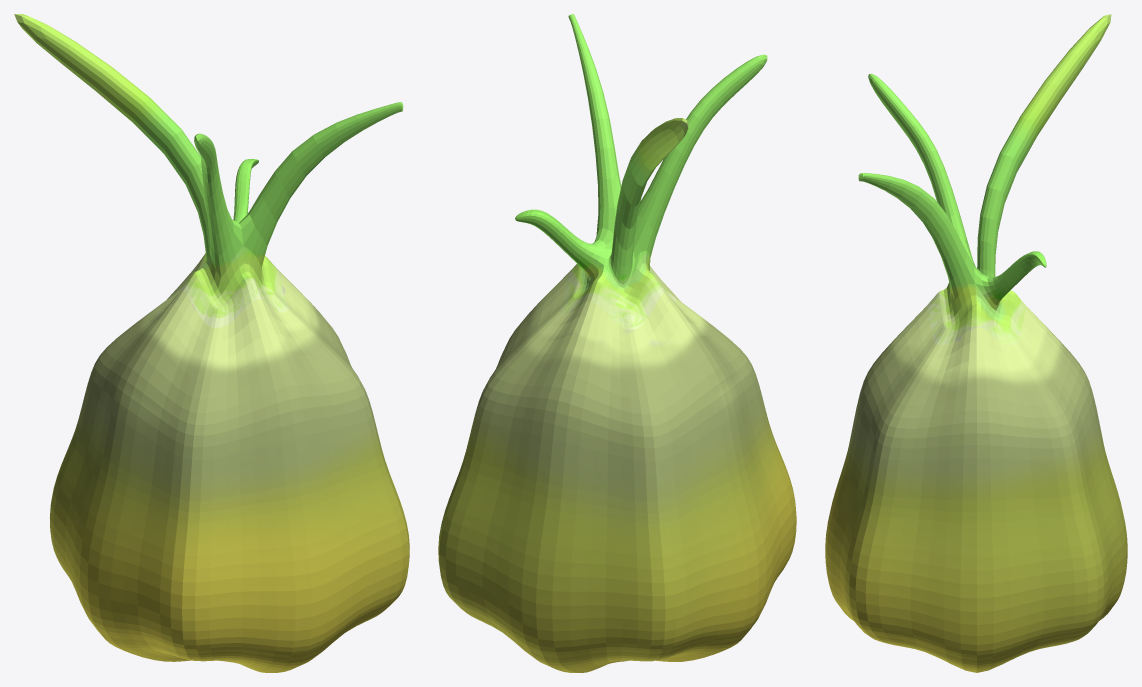
The model's file is Stage1.fbx.
3 renders of one model, left to right at view 1: azimuth 30°, elevation 25°; view 2: azimuth 150°, elevation 25°; view 3: azimuth 270°, elevation 25°, orthographic. The views are drawn at different scales.
Visible parts, largest first — view 1: Stage1; view 2: Stage1; view 3: Stage1.
Boxes of the visible parts, x1,y1,x2,y2 form: Stage1: (14,14,409,672); Stage1: (438,14,796,672); Stage1: (825,14,1127,672).
Size of the model in its own units: 813 by 1698 by 811.
